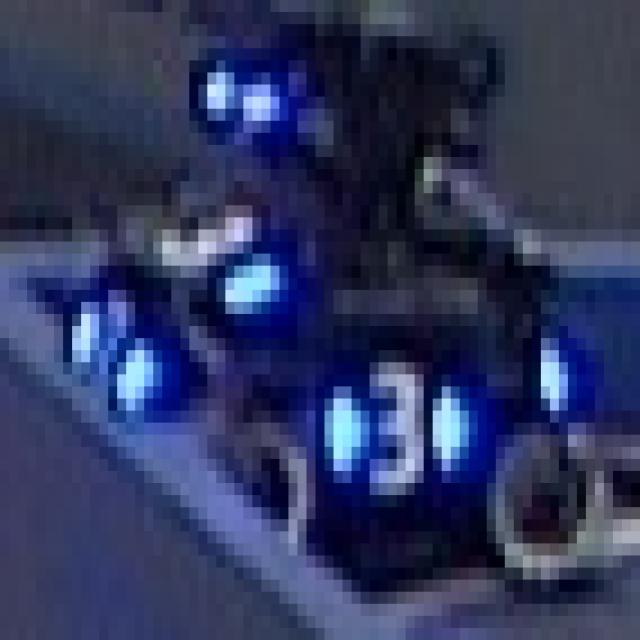B3: (316, 350, 468, 507), (63, 266, 162, 422)
